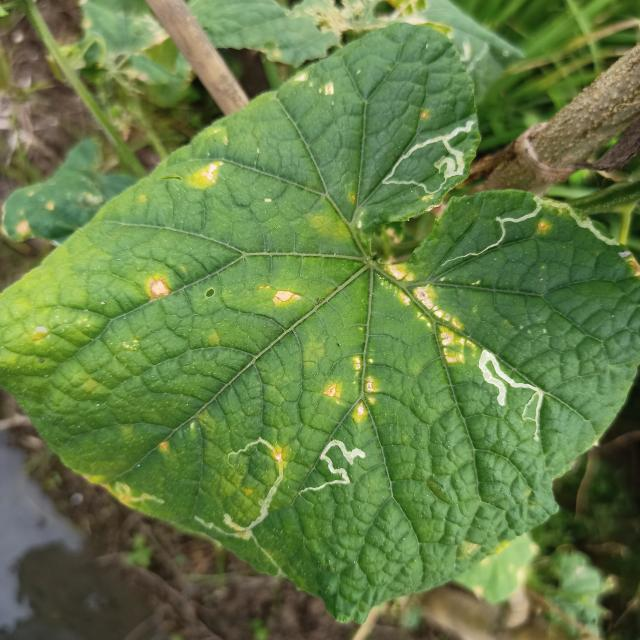disease_cucumber: (384, 264, 474, 368), (320, 356, 379, 422), (189, 155, 226, 194), (296, 72, 336, 96), (146, 274, 174, 302), (268, 285, 300, 307), (536, 220, 551, 236)
